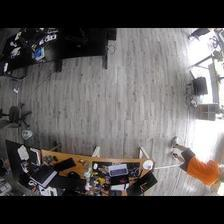normal: (169, 137, 224, 187)
